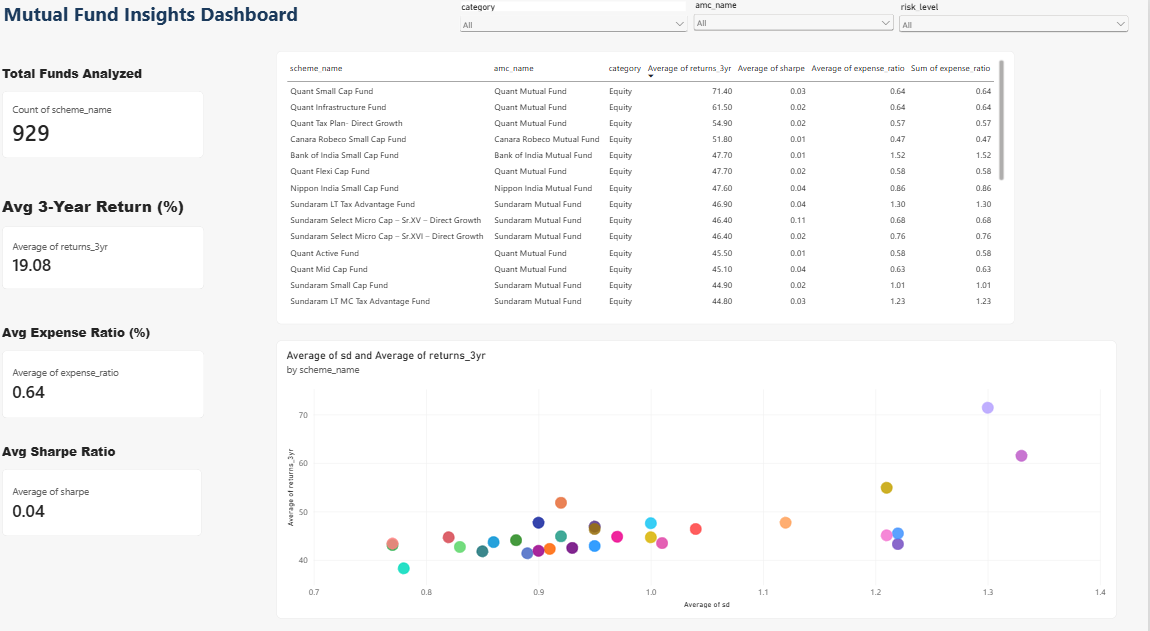

Layout of this report page (visuals, bound fields, positions):
{"tool":"powerbi","page":{"name":"Mutual Fund Insights Dashboard","canvas":[1920,1080],"ordinal":0},"visuals":[{"type":"textbox","box":[11.3,0,501.7,45.4],"z":0},{"type":"slicer","fields":{"Values":["All Funds.category"]},"box":[766.7,3.3,390,60],"z":1},{"type":"slicer","fields":{"Values":["All Funds.amc_name"]},"box":[1156.7,0,343.3,63.3],"z":2},{"type":"slicer","fields":{"Values":["All Funds.risk_level"]},"box":[1500,2.5,392.5,60],"z":3},{"type":"cardVisual","title":"Total Funds Analyzed","fields":{"Data":["Count(All Funds.scheme_name)"]},"box":[10,106.7,336.7,156.7],"z":4},{"type":"cardVisual","title":"Avg 3-Year Return (%)","fields":{"Data":["Avg(All Funds.returns_3yr)"]},"box":[10,325.5,337,157],"z":5},{"type":"cardVisual","title":"Avg Expense Ratio (%)","fields":{"Data":["Avg(All Funds.expense_ratio)"]},"box":[10,540,337,157],"z":6},{"type":"cardVisual","title":"Avg Sharpe Ratio","fields":{"Data":["Avg(All Funds.sharpe)"]},"box":[10,736.7,333.3,156.7],"z":7},{"type":"tableEx","fields":{"Values":["Top 30 Funds.scheme_name","Top 30 Funds.amc_name","Top 30 Funds.category","Avg(Top 30 Funds.returns_3yr)","Avg(Top 30 Funds.sharpe)","Avg(Top 30 Funds.expense_ratio)","Sum(Top 30 Funds.expense_ratio)"]},"box":[467.5,85,1230,455],"z":8},{"type":"scatterChart","fields":{"Series":["Top 30 Funds.scheme_name"],"X":["Avg(Top 30 Funds.sd)"],"Y":["Avg(Top 30 Funds.returns_3yr)"]},"box":[466.7,566.7,1400,463.3],"z":9}]}

Visuals, with their boxes in screenshot pixels (x1, y1, x2, y2), scaled from the page's 1920x1080 canvas onto the 1150x631 screenshot:
textbox: {"x1": 7, "y1": 0, "x2": 307, "y2": 27}
slicer - All Funds.category: {"x1": 459, "y1": 2, "x2": 693, "y2": 37}
slicer - All Funds.amc_name: {"x1": 693, "y1": 0, "x2": 898, "y2": 37}
slicer - All Funds.risk_level: {"x1": 898, "y1": 1, "x2": 1134, "y2": 37}
"Total Funds Analyzed" cardVisual: {"x1": 6, "y1": 62, "x2": 208, "y2": 154}
"Avg 3-Year Return (%)" cardVisual: {"x1": 6, "y1": 190, "x2": 208, "y2": 282}
"Avg Expense Ratio (%)" cardVisual: {"x1": 6, "y1": 316, "x2": 208, "y2": 407}
"Avg Sharpe Ratio" cardVisual: {"x1": 6, "y1": 430, "x2": 206, "y2": 522}
tableEx - Top 30 Funds.scheme_name x Top 30 Funds.amc_name: {"x1": 280, "y1": 50, "x2": 1017, "y2": 316}
scatterChart - Top 30 Funds.scheme_name x Avg(Top 30 Funds.sd): {"x1": 280, "y1": 331, "x2": 1118, "y2": 602}
